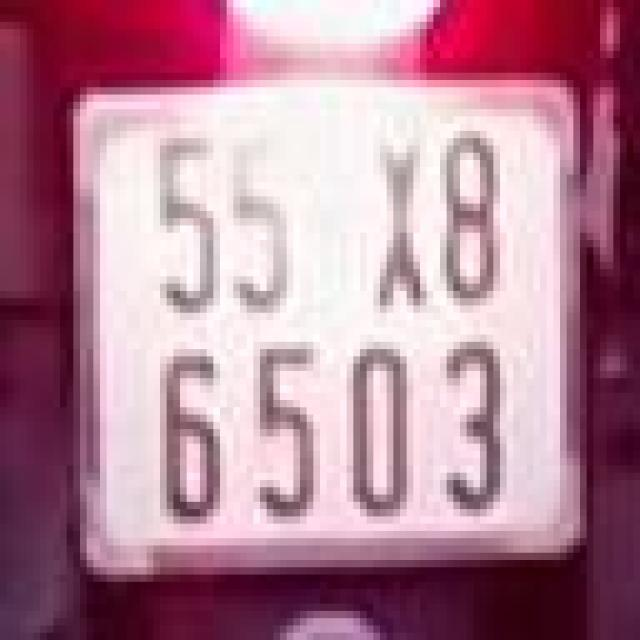0: (340, 327, 420, 524)
3: (423, 334, 517, 524)
5: (244, 334, 324, 524), (223, 120, 297, 324), (147, 131, 220, 327)
6: (147, 346, 233, 534)
8: (434, 128, 514, 316)
X: (370, 120, 430, 316)
